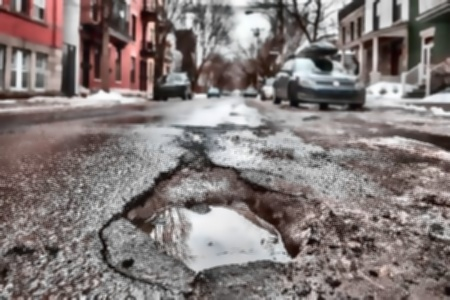pothole: (120, 159, 308, 272), (400, 129, 450, 153)
